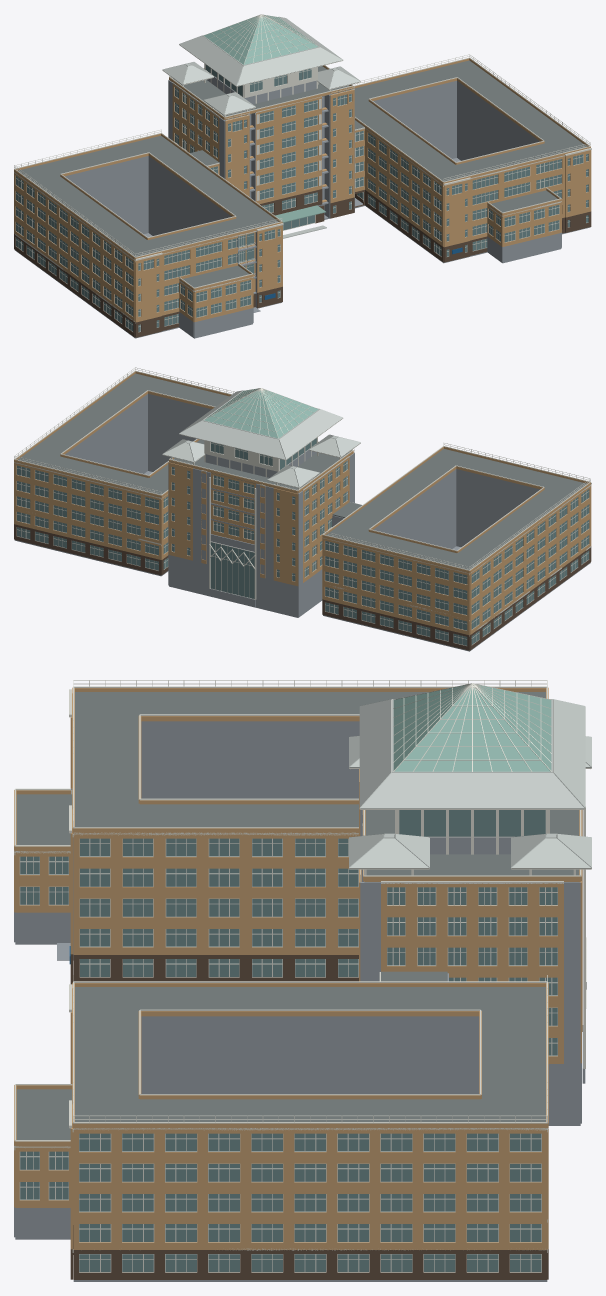
File: teach1.glb
3 views of the same model, one above another, from view 1: azimuth 30°, elevation 25°; view 2: azimuth 150°, elevation 25°; view 3: azimuth 270°, elevation 25° (orthographic). The views are drawn at different scales.
Visible parts, largest first — view 1: 教一楼; view 2: 教一楼; view 3: 教一楼.
Part boxes in pixels (<box>): 教一楼: <box>14,14,591,338</box>; 教一楼: <box>14,367,591,651</box>; 教一楼: <box>14,680,591,1281</box>.
Bounding box in the file's own units: 124 × 50.57 × 69.54.
